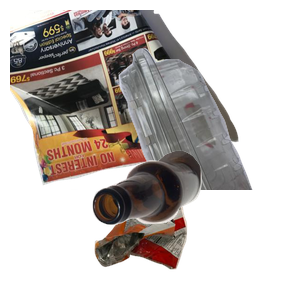glass: (90, 148, 300, 300)
paper: (10, 10, 241, 188)
plastic: (71, 45, 300, 225)
trash: (92, 174, 272, 300)
